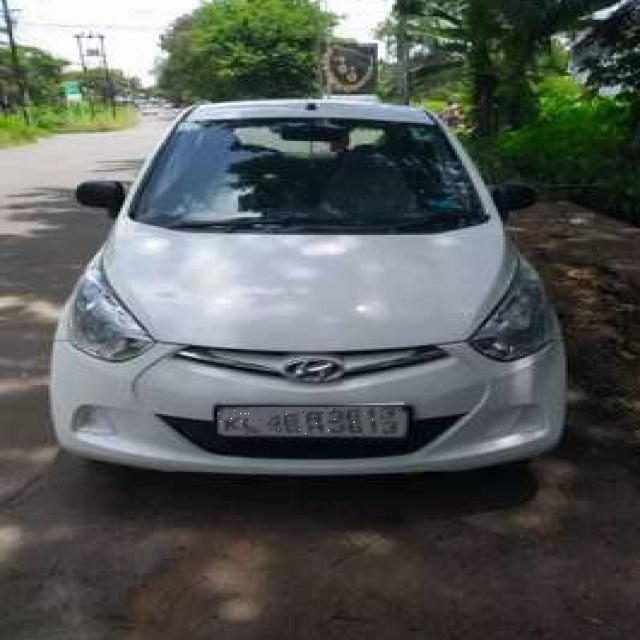Plate: (218, 408, 405, 435)
